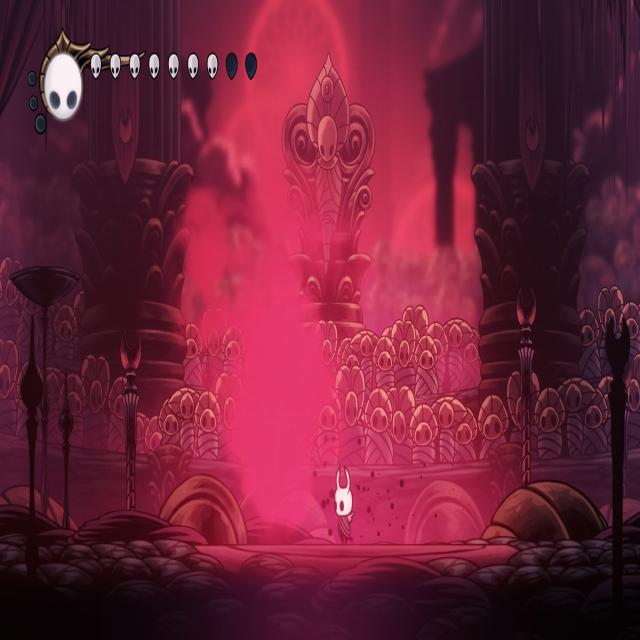Player: (334, 464, 357, 548)
